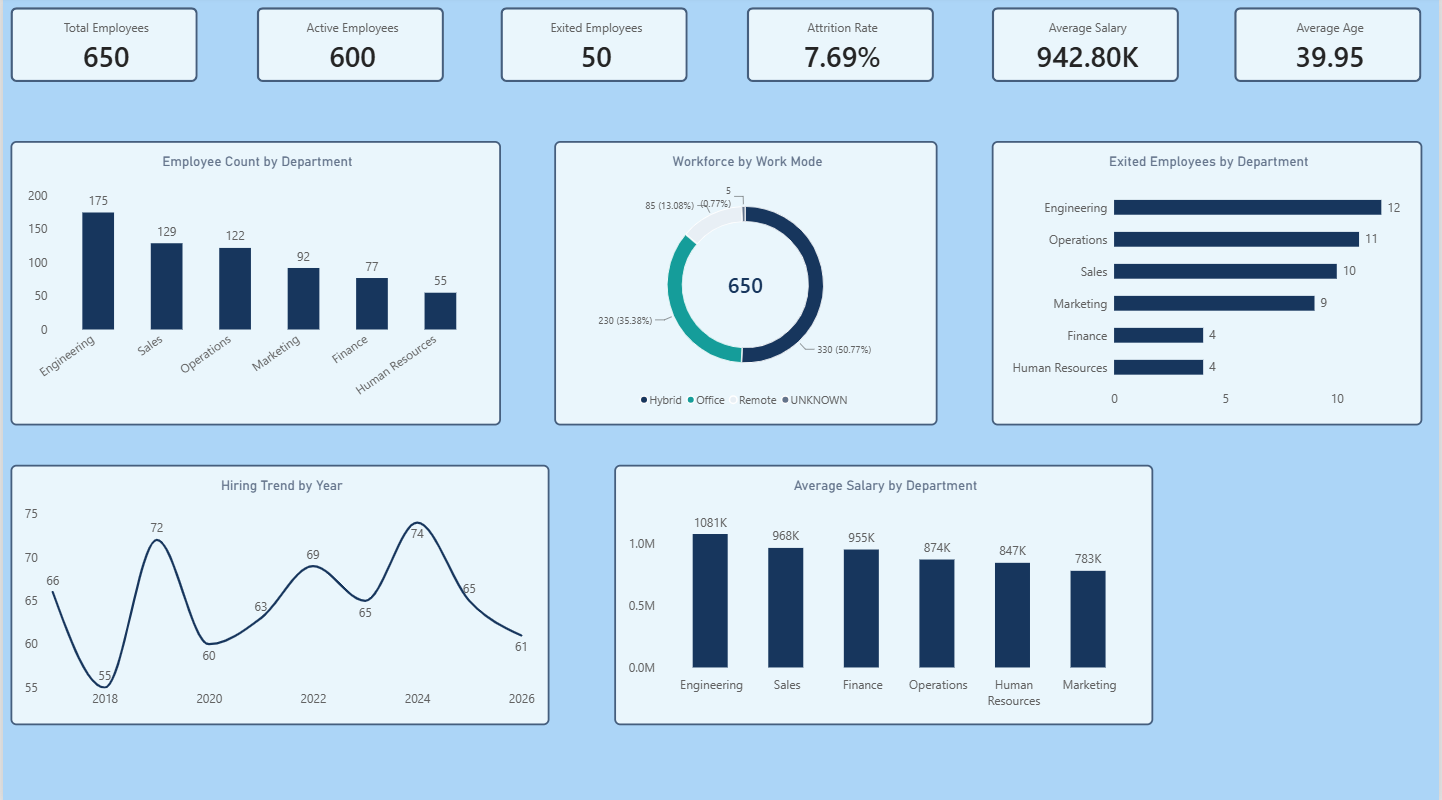

What the dashboard file says about the page in this screenshot:
{"tool":"powerbi","page":{"name":"Overview","canvas":[1920,1080],"ordinal":0},"visuals":[{"type":"cardVisual","fields":{"Data":["Employees.Total Employees"]},"box":[10,15,250,100],"z":0},{"type":"cardVisual","fields":{"Data":["Employees.Active Employees"]},"box":[338.3,15,250,100],"z":1000},{"type":"cardVisual","fields":{"Data":["Employees.Exited Employees"]},"box":[665,15,250,100],"z":2000},{"type":"cardVisual","fields":{"Data":["Employees.Attrition Rate"]},"box":[993.3,15,250,100],"z":3000},{"type":"cardVisual","fields":{"Data":["Employees.Average Salary"]},"box":[1320,15,250,100],"z":4000},{"type":"cardVisual","fields":{"Data":["Employees.Average Age"]},"box":[1645,15,250,100],"z":5000},{"type":"clusteredColumnChart","title":"Employee Count by Department","fields":{"Category":["Departments.Department"],"Y":["Employees.Total Employees"]},"box":[10,193.3,655,380],"z":6000},{"type":"donutChart","title":"Workforce by Work Mode","fields":{"Category":["Locations.Work_Mode"],"Y":["Employees.Total Employees"]},"box":[736.7,193.3,511.7,380],"z":7000},{"type":"clusteredBarChart","title":"Exited Employees by Department","fields":{"Category":["Employees.Department"],"Y":["Employees.Exited Employees"]},"box":[1320,193.3,575,380],"z":8000},{"type":"lineChart","title":"Hiring Trend by Year","fields":{"Category":["Date.Year"],"Y":["Employees.Employees Hired"]},"box":[10,626.7,720,348],"z":9000},{"type":"clusteredColumnChart","title":"Average Salary by Department","fields":{"Category":["Departments.Department"],"Y":["Employees.Average Salary"]},"box":[816.7,626.7,720,348],"z":10000}]}

Visuals, with their boxes in screenshot pixels (x1, y1, x2, y2), scaled from the page's 1920x1080 canvas onto the 1442x800 screenshot:
cardVisual - Employees.Total Employees: left=8, top=11, right=195, bottom=85
cardVisual - Employees.Active Employees: left=254, top=11, right=442, bottom=85
cardVisual - Employees.Exited Employees: left=499, top=11, right=687, bottom=85
cardVisual - Employees.Attrition Rate: left=746, top=11, right=934, bottom=85
cardVisual - Employees.Average Salary: left=991, top=11, right=1179, bottom=85
cardVisual - Employees.Average Age: left=1235, top=11, right=1423, bottom=85
"Employee Count by Department" clusteredColumnChart: left=8, top=143, right=499, bottom=425
"Workforce by Work Mode" donutChart: left=553, top=143, right=938, bottom=425
"Exited Employees by Department" clusteredBarChart: left=991, top=143, right=1423, bottom=425
"Hiring Trend by Year" lineChart: left=8, top=464, right=548, bottom=722
"Average Salary by Department" clusteredColumnChart: left=613, top=464, right=1154, bottom=722
